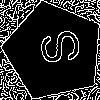S: (29, 26, 83, 70)
